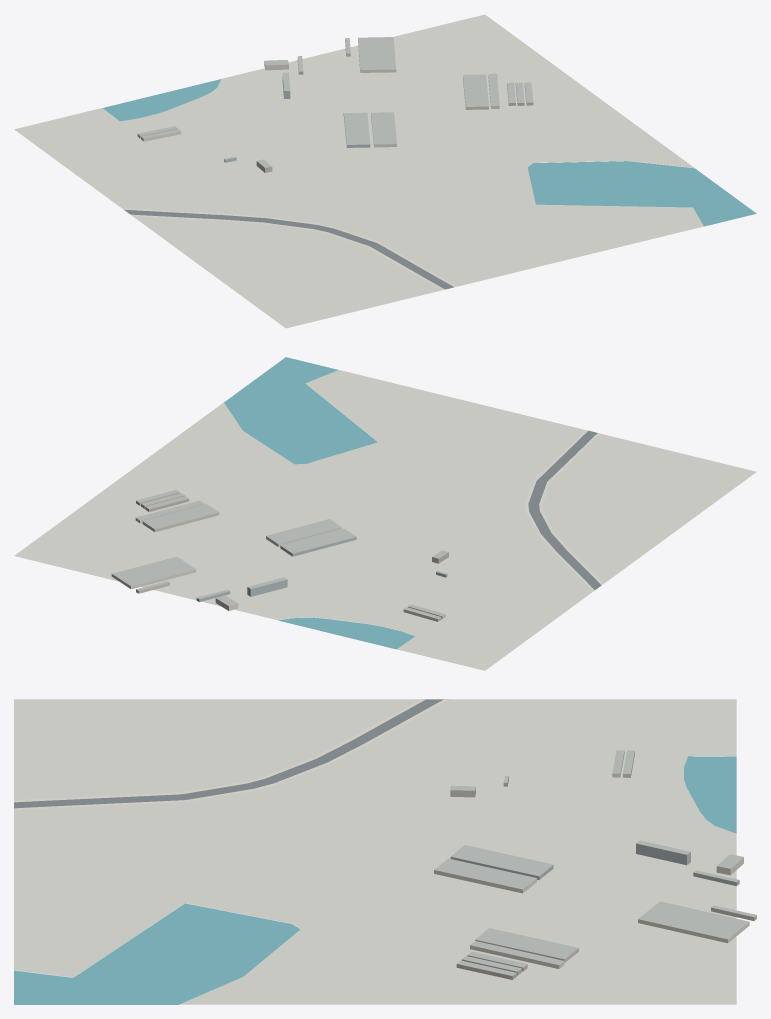
The picture shows the model from 3 angles, top to bottom: view 1: azimuth 30°, elevation 25°; view 2: azimuth 150°, elevation 25°; view 3: azimuth 270°, elevation 25°; orthographic projection. The views are drawn at different scales.
Parts seen in each view (by area): view 1: city; view 2: city; view 3: city.
Part boxes in pixels (x1,y1,x2,y2): city: [14, 14, 756, 328]; city: [14, 357, 756, 670]; city: [14, 699, 756, 1004].
Bounding box in the file's own units: 500 × 8.18 × 514.
